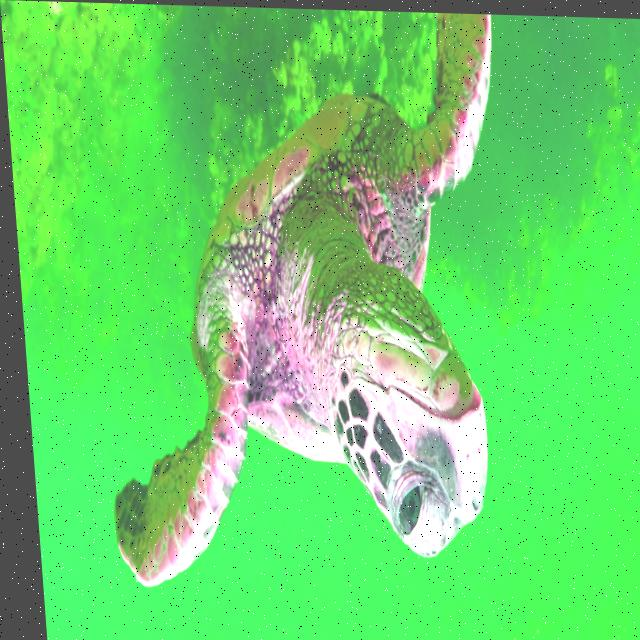sea turtle: (156, 67, 476, 365), (286, 262, 519, 580), (81, 306, 282, 640), (370, 9, 539, 228), (209, 321, 373, 525)
